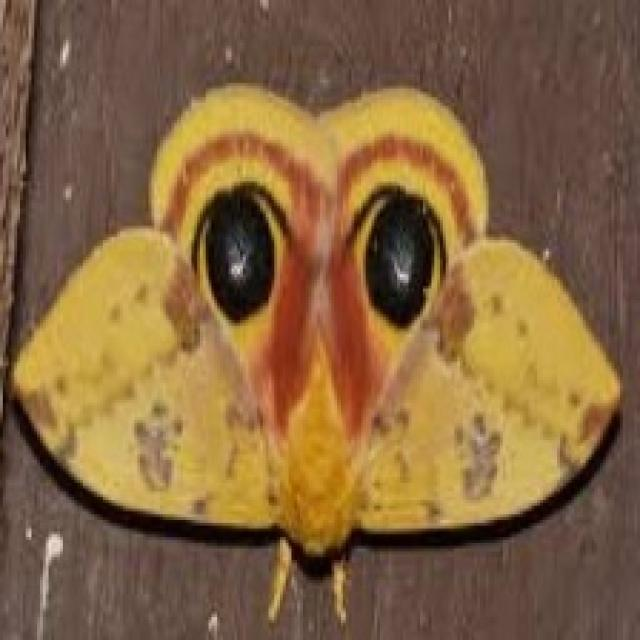butterfly: (8, 74, 623, 626)
